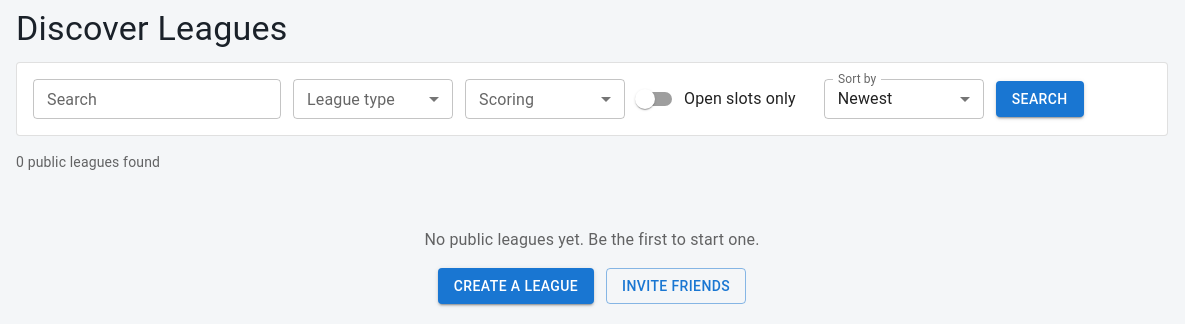
it: a league-type filter counts as an active filter for the empty state
This screenshot has width=1185, height=324.
Expected: the text "No public leagues yet. Be the first to start one." is shown, x1=424 y1=230 x2=760 y2=249
Click the dropdown named "League type" next to "League type" at (373, 99), box x1=293 y1=79 x2=453 y2=119
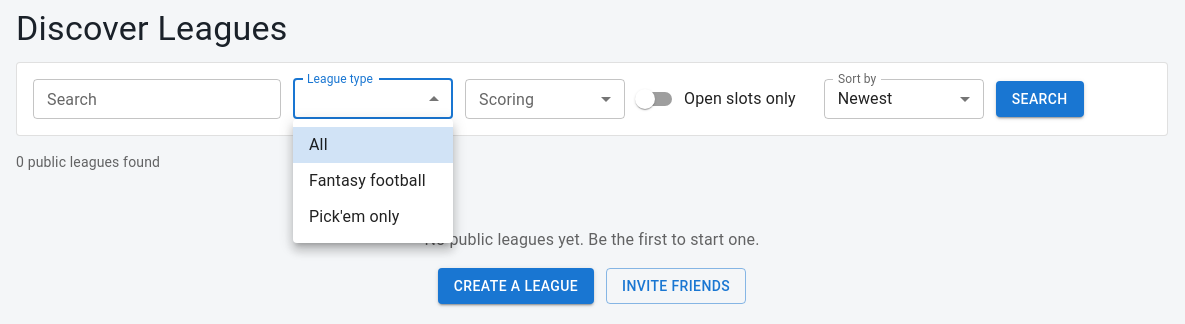
Click the option "Pick'em only" at (354, 216), box x1=309 y1=207 x2=400 y2=226
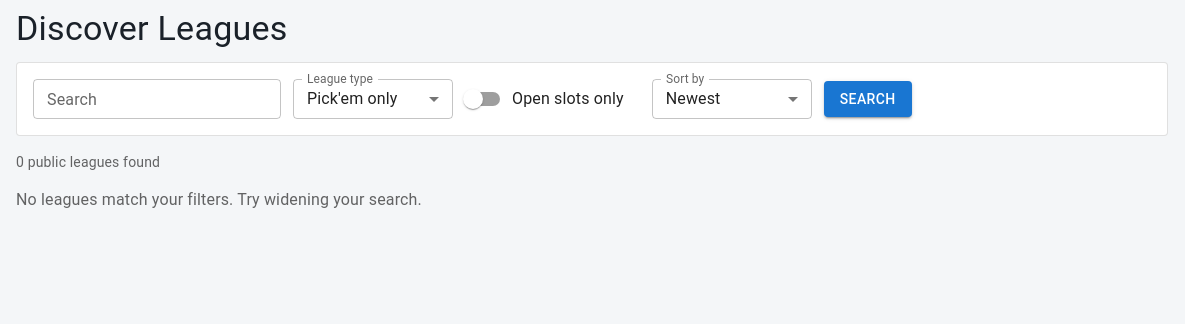
Now the text "No leagues match your filters. Try widening your search." is shown, box x1=16 y1=190 x2=422 y2=209
